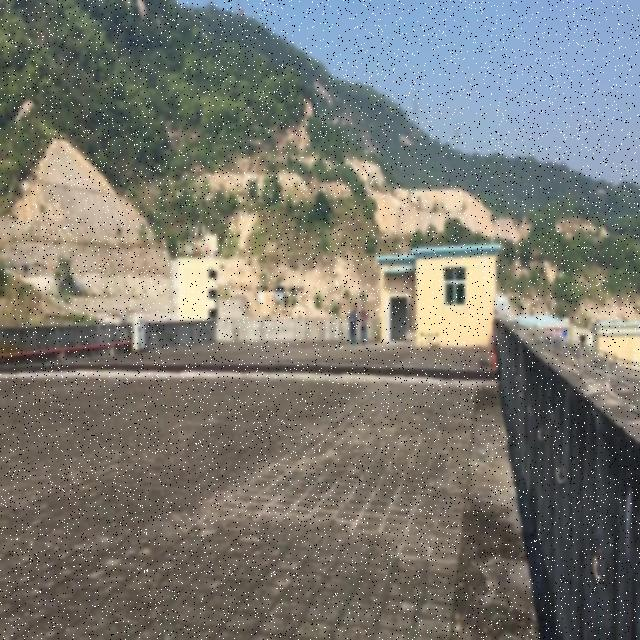UAV: (256, 284, 304, 313)
